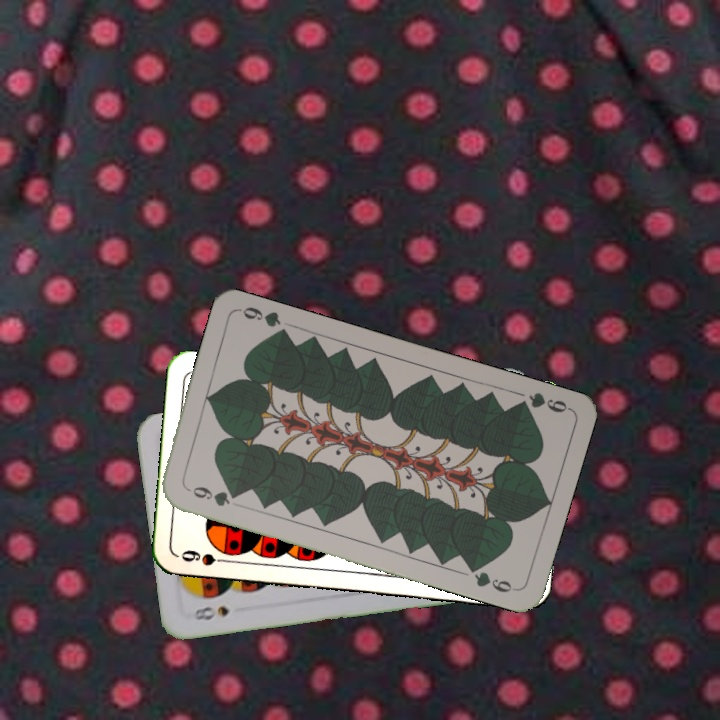G9: (511, 388, 572, 416), (183, 482, 242, 509)
S8: (189, 602, 232, 623)
S9: (177, 545, 235, 568)
